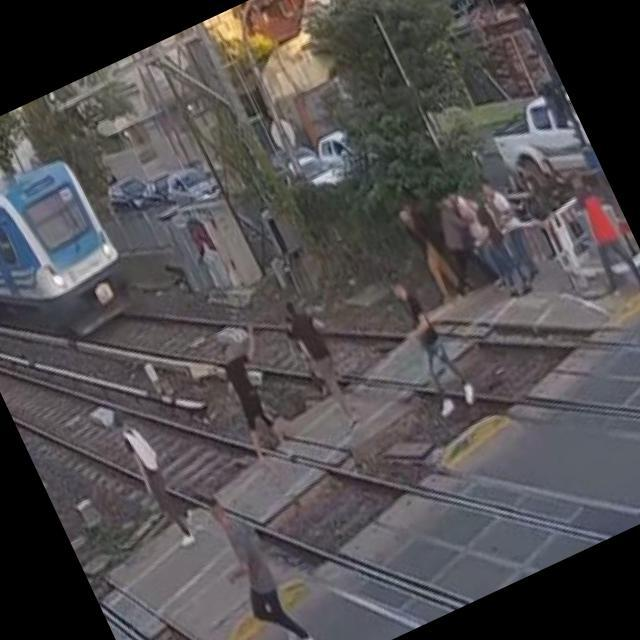person: (194, 477, 322, 640), (382, 268, 482, 422), (106, 401, 203, 557), (272, 287, 371, 435), (210, 330, 308, 476), (563, 171, 640, 308), (477, 167, 552, 289)
